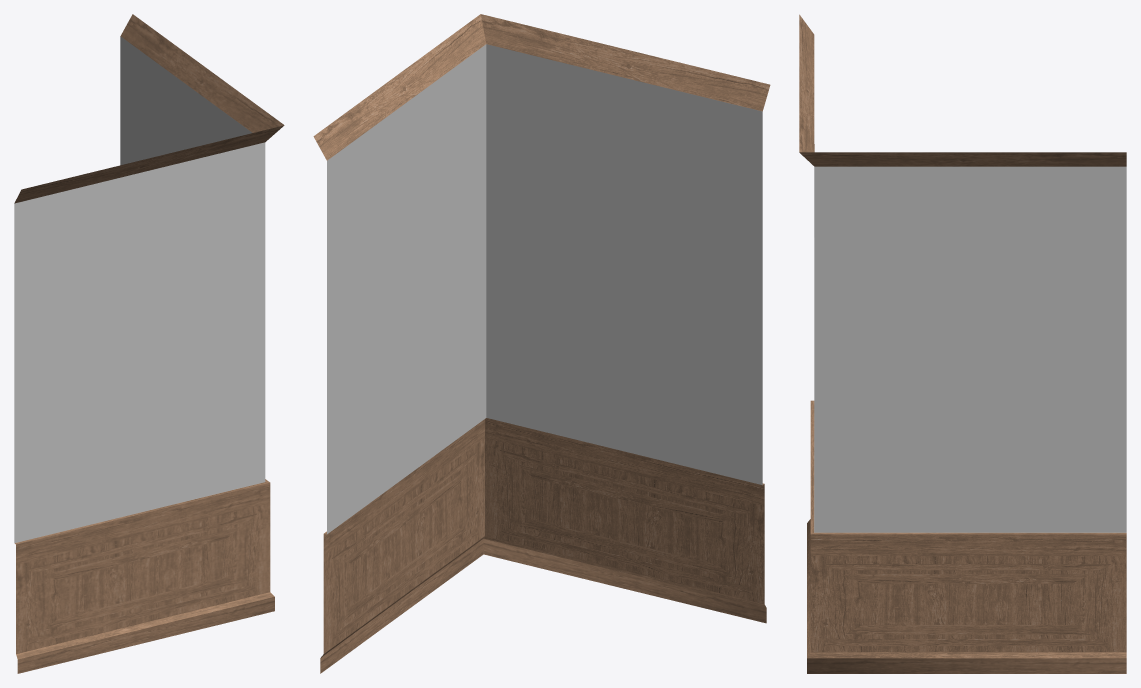
The model's file is WallIntCorneroutside2A.fbx.
3 renders of one model, left to right at view 1: azimuth 30°, elevation 25°; view 2: azimuth 150°, elevation 25°; view 3: azimuth 270°, elevation 25°, orthographic. The views are drawn at different scales.
Visible parts, largest first — view 1: WallIntCorneroutside2A; view 2: WallIntCorneroutside2A; view 3: WallIntCorneroutside2A.
Boxes of the visible parts, x1,y1,x2,y2 form: WallIntCorneroutside2A: [14, 14, 284, 673]; WallIntCorneroutside2A: [313, 14, 770, 673]; WallIntCorneroutside2A: [799, 14, 1126, 673].
Size of the model in its own units: 215 by 380 by 215.
